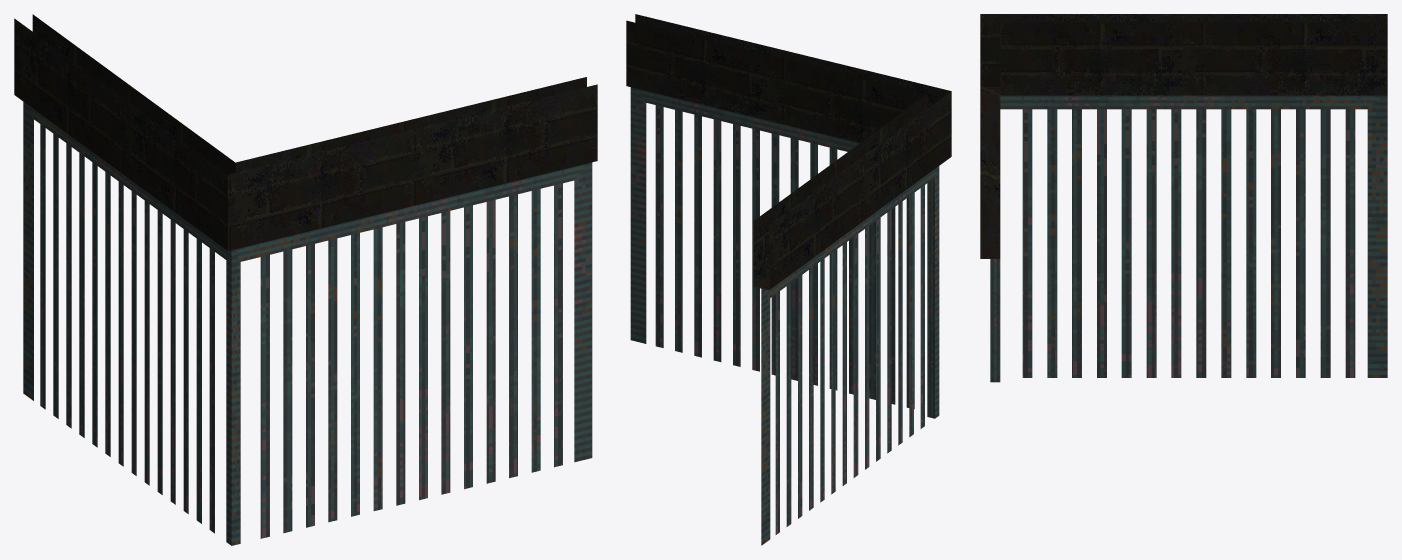
The model's file is BarsLowCorner.glb.
The picture shows the model from 3 angles, left to right: view 1: azimuth 30°, elevation 25°; view 2: azimuth 150°, elevation 25°; view 3: azimuth 270°, elevation 25°; orthographic projection. The views are drawn at different scales.
Parts seen in each view (by area): view 1: BarsLowCorner; view 2: BarsLowCorner; view 3: BarsLowCorner.
Boxes of the visible parts, x1,y1,x2,y2 form: BarsLowCorner: (14, 14, 597, 545); BarsLowCorner: (626, 14, 951, 545); BarsLowCorner: (980, 14, 1387, 382).
Size of the model in its own units: 4.1 by 4 by 4.1.
2 materials, 2 textured.
